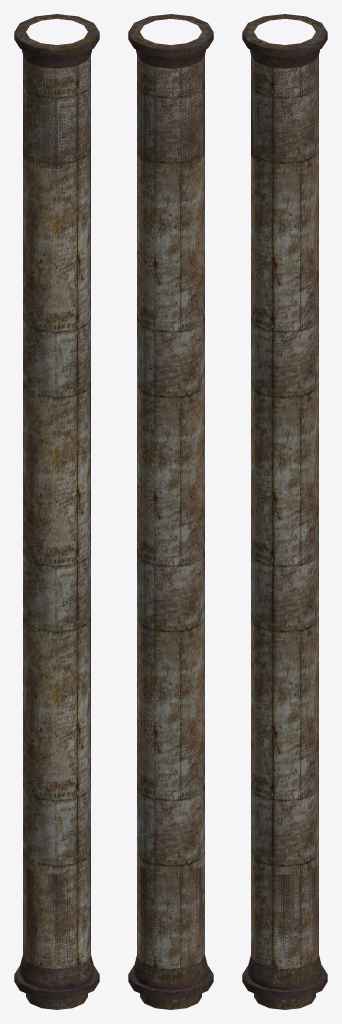
The model's file is railpipe_s01.glb.
3 views of the same model, side by side, from view 1: azimuth 30°, elevation 25°; view 2: azimuth 150°, elevation 25°; view 3: azimuth 330°, elevation 25° (orthographic).
Size of the model in its own units: 41.38 by 516 by 41.38.
3 materials, 3 textured.
